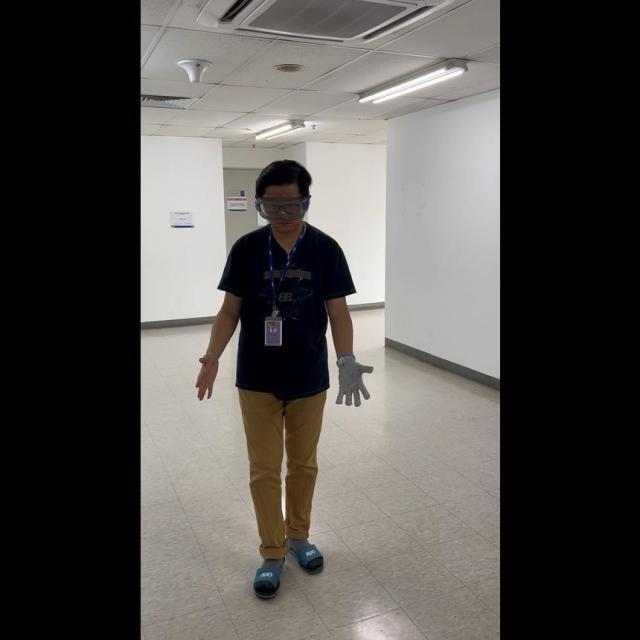bare_hand: (193, 349, 220, 401)
gloved_hand: (331, 351, 372, 406)
